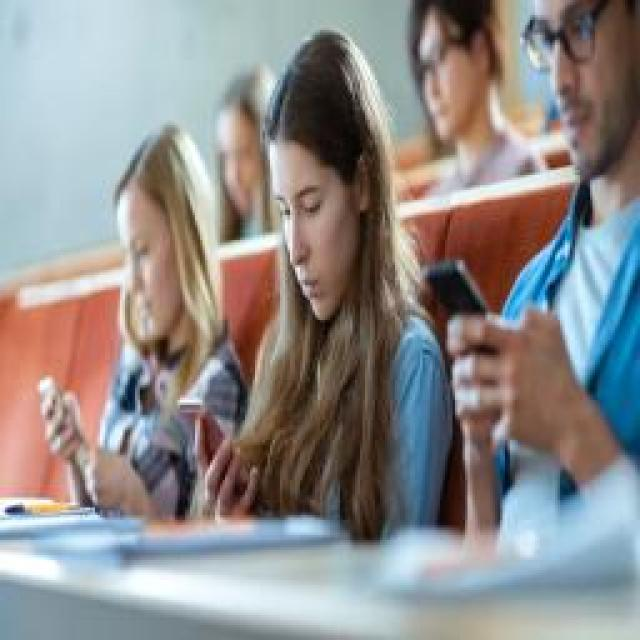phone: (180, 30, 448, 528), (420, 0, 640, 548), (35, 115, 247, 517)
